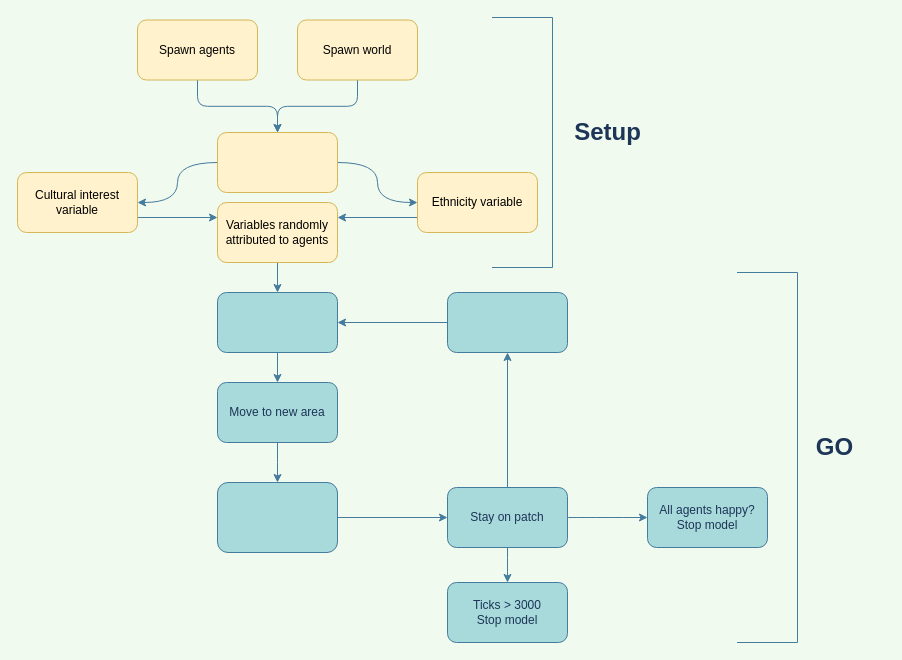
This 902x660 diagram has some shape labels left out. The centre of each missing label's shape, as x and y in pixels:
"Agent-type" goes at [277,162].
"Is there more unhappy agents?" goes at [507,322].
"Select unhappy agent" goes at [277,322].
"Update agent happiness" goes at [277,517].
